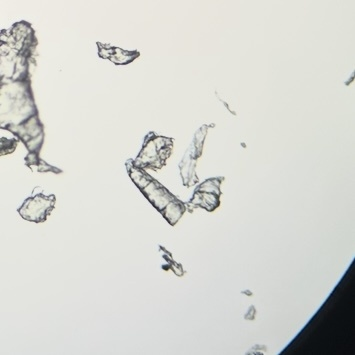microplastic: (1, 20, 63, 174), (125, 132, 225, 225), (179, 123, 215, 187), (17, 186, 56, 223), (96, 41, 140, 66), (158, 245, 186, 276), (245, 345, 266, 355), (344, 69, 355, 86), (244, 305, 256, 320), (241, 290, 253, 296)
